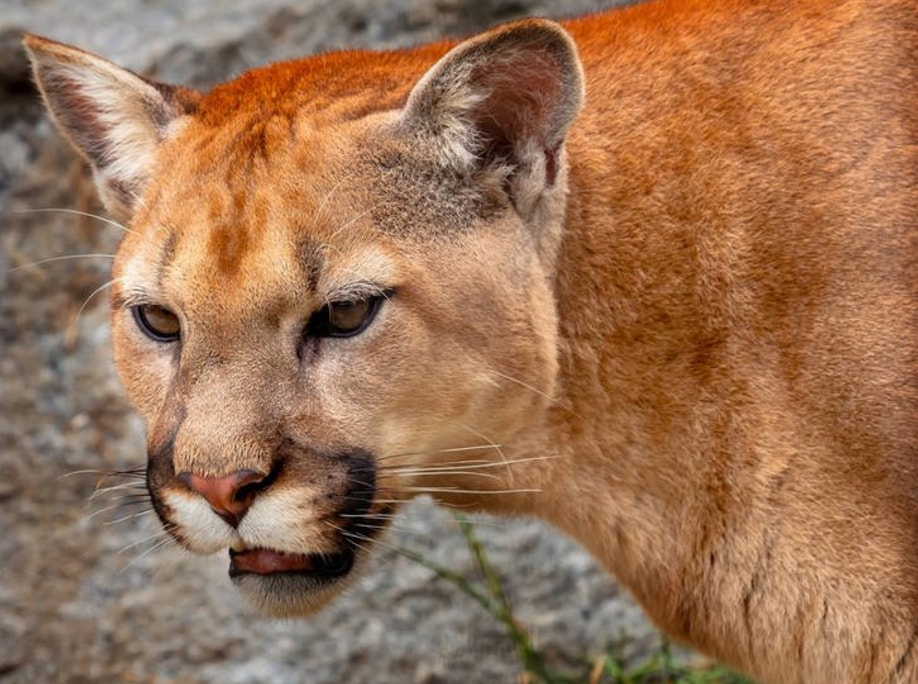Mountain Lion: (27, 30, 915, 676)
